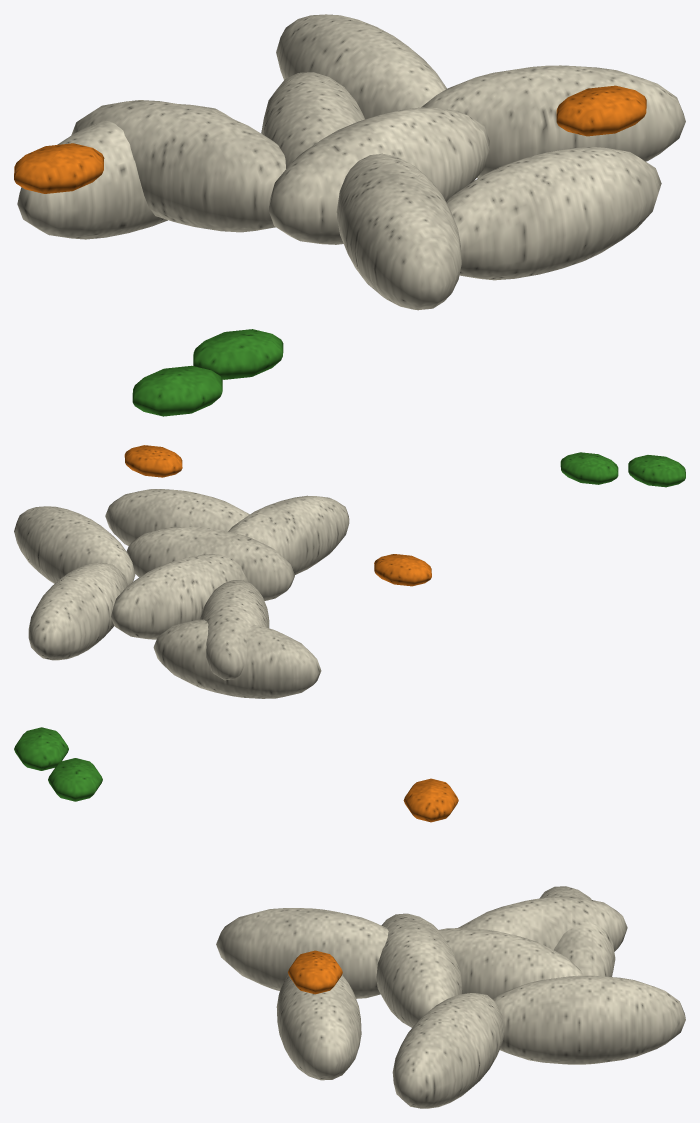
File: food-07-residue.glb
3 renders of one model, top to bottom at view 1: azimuth 30°, elevation 25°; view 2: azimuth 150°, elevation 25°; view 3: azimuth 270°, elevation 25°, orthographic. The views are drawn at different scales.
Parts seen in each view (by area): view 1: Food; view 2: Food; view 3: Food.
Part boxes in pixels (x1,y1,x2,y2): Food: (14,14,685,416); Food: (14,445,685,698); Food: (14,727,685,1108).
Bounding box in the file's own units: 0.4152 × 0.0911 × 0.4005.
Materials: 1 (1 with a texture image).
